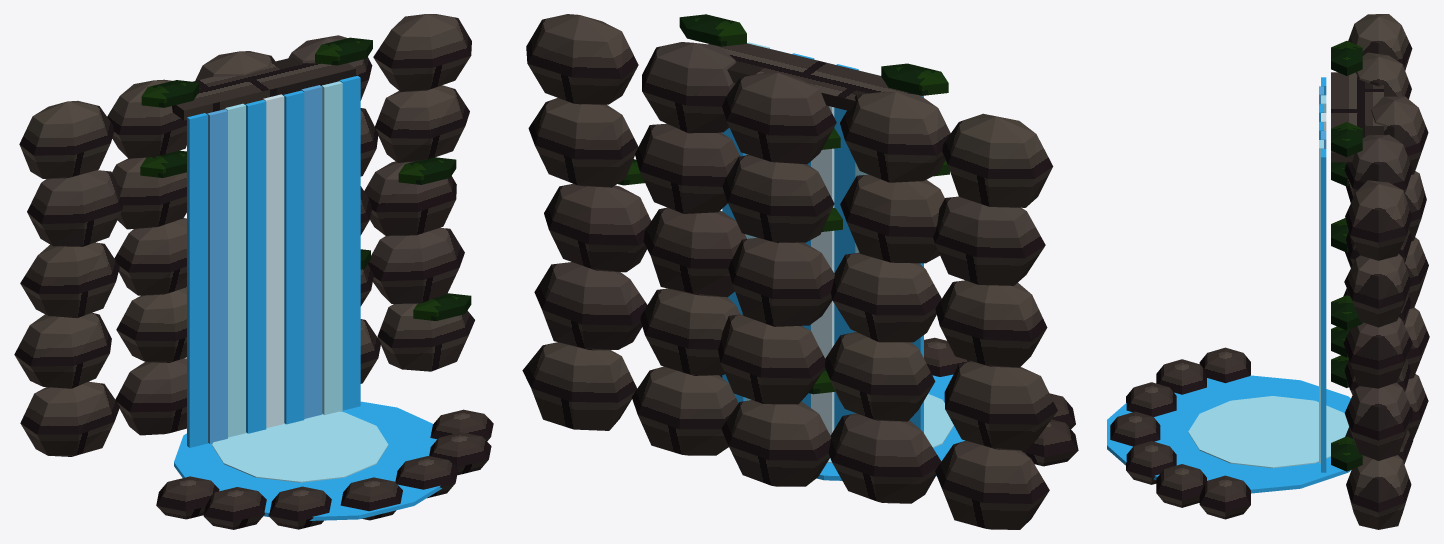
The model's file is waterfall.glb.
3 views of the same model, side by side, from view 1: azimuth 30°, elevation 25°; view 2: azimuth 150°, elevation 25°; view 3: azimuth 270°, elevation 25° (orthographic). The views are drawn at different scales.
Parts seen in each view (by area): view 1: waterfall; view 2: waterfall; view 3: waterfall.
Part boxes in pixels (x1,y1,x2,y2): waterfall: (14, 14, 493, 529); waterfall: (522, 14, 1078, 529); waterfall: (1107, 14, 1429, 529).
Bounding box in the file's own units: 4.75 × 3.73 × 3.05.
Materials: 3 (2 with a texture image).
